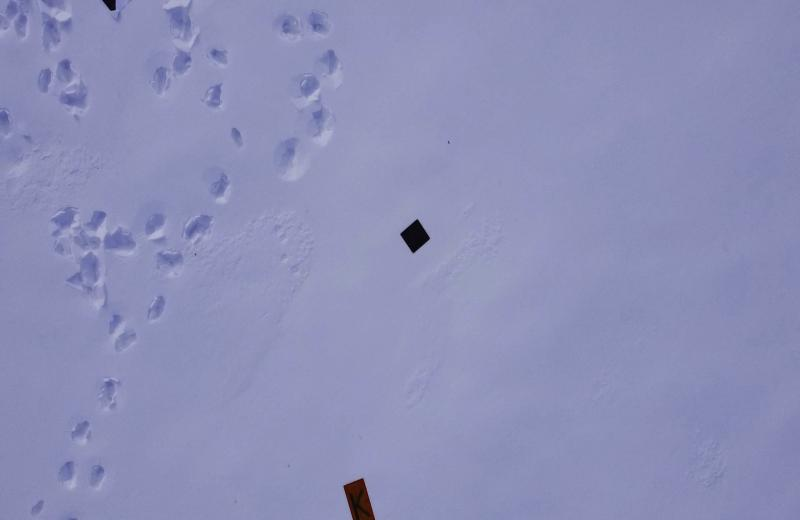Rectangle: (343, 479, 377, 520)
Square: (400, 218, 432, 256)
